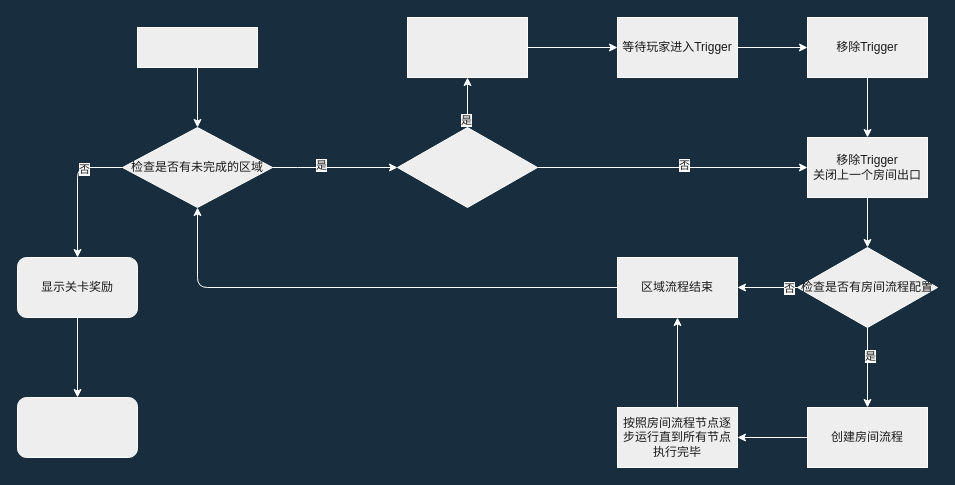
The diagram is 955 pixels wide and 485 high, and some of its shapes have lost their labels. Here are the shapes that lost their labels. From the top down, the centre of each, then its label:
the point at 197,47: 进入关卡
the point at 467,47: 创建Trigger
the point at 467,167: 检查是否有Trigger
the point at 77,427: 等待玩家选择出口 关卡结束
